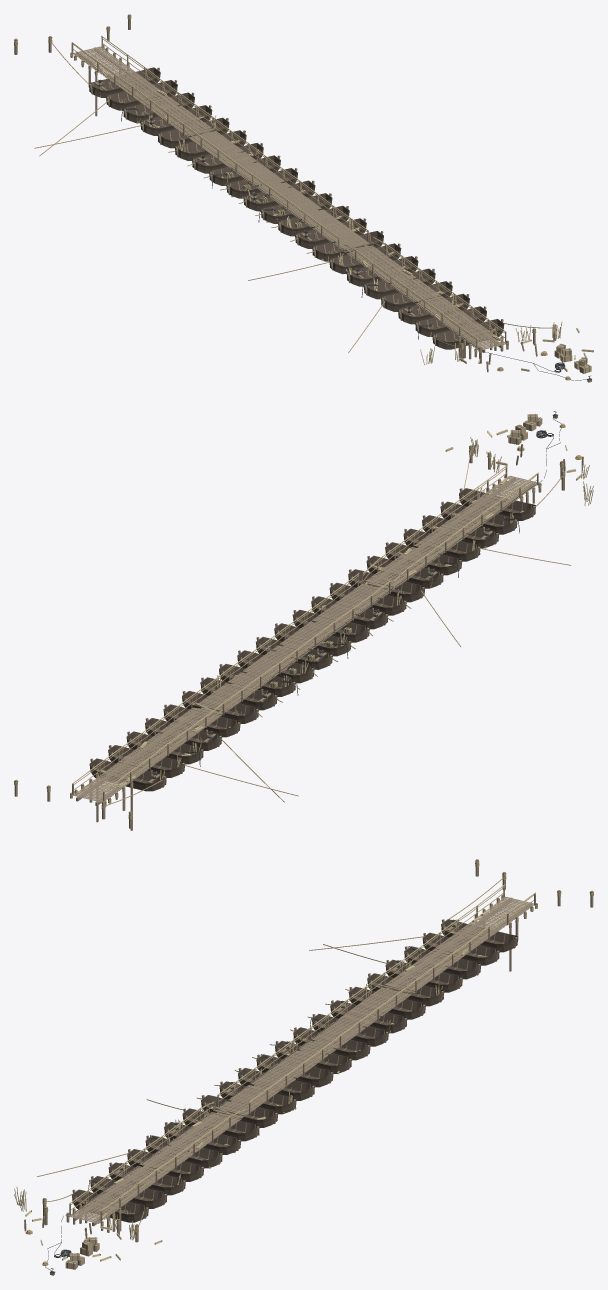
File: Model_PontoonBridge.glb
3 renders of one model, top to bottom at view 1: azimuth 30°, elevation 25°; view 2: azimuth 150°, elevation 25°; view 3: azimuth 330°, elevation 25°, orthographic. The views are drawn at different scales.
Parts seen in each view (by area): view 1: SouthSection, NorthSection, BankNorth, Crates, SinkBoat8, SinkBoat14, SinkBoat7, SinkBoat15, BankSouth; view 2: SouthSection, NorthSection, BankNorth, SinkBoat8, SinkBoat14, SinkBoat15, Crates, SinkBoat7, BankSouth; view 3: SouthSection, NorthSection, BankNorth, SinkBoat8, SinkBoat14, SinkBoat7, SinkBoat15, Crates, BankSouth.
Boxes of the visible parts, x1=… form: SouthSection: x1=248, y1=237, x2=551, y2=353; NorthSection: x1=34, y1=41, x2=229, y2=156; BankNorth: x1=14, y1=14, x2=131, y2=116; Crates: x1=420, y1=322, x2=593, y2=380; SinkBoat8: x1=290, y1=205, x2=366, y2=248; SinkBoat14: x1=187, y1=130, x2=263, y2=173; SinkBoat7: x1=306, y1=218, x2=383, y2=261; SinkBoat15: x1=168, y1=116, x2=246, y2=160; BankSouth: x1=458, y1=319, x2=556, y2=363; SouthSection: x1=348, y1=450, x2=571, y2=646; NorthSection: x1=89, y1=695, x2=298, y2=805; BankNorth: x1=14, y1=763, x2=133, y2=830; SinkBoat8: x1=311, y1=587, x2=393, y2=629; SinkBoat14: x1=200, y1=667, x2=282, y2=710; SinkBoat15: x1=182, y1=681, x2=262, y2=723; Crates: x1=445, y1=414, x2=593, y2=505; SinkBoat7: x1=329, y1=573, x2=411, y2=615; BankSouth: x1=469, y1=445, x2=565, y2=503; SouthSection: x1=37, y1=1099, x2=259, y2=1225; NorthSection: x1=309, y1=878, x2=518, y2=1006; BankNorth: x1=474, y1=859, x2=593, y2=971; SinkBoat8: x1=214, y1=1069, x2=296, y2=1114; SinkBoat14: x1=325, y1=986, x2=407, y2=1033; SinkBoat7: x1=197, y1=1081, x2=278, y2=1127; SinkBoat15: x1=345, y1=972, x2=425, y2=1019; Crates: x1=14, y1=1187, x2=162, y2=1269; BankSouth: x1=42, y1=1190, x2=138, y2=1242.
Bounding box in the file's own units: 20.24 × 6.23 × 84.91.
